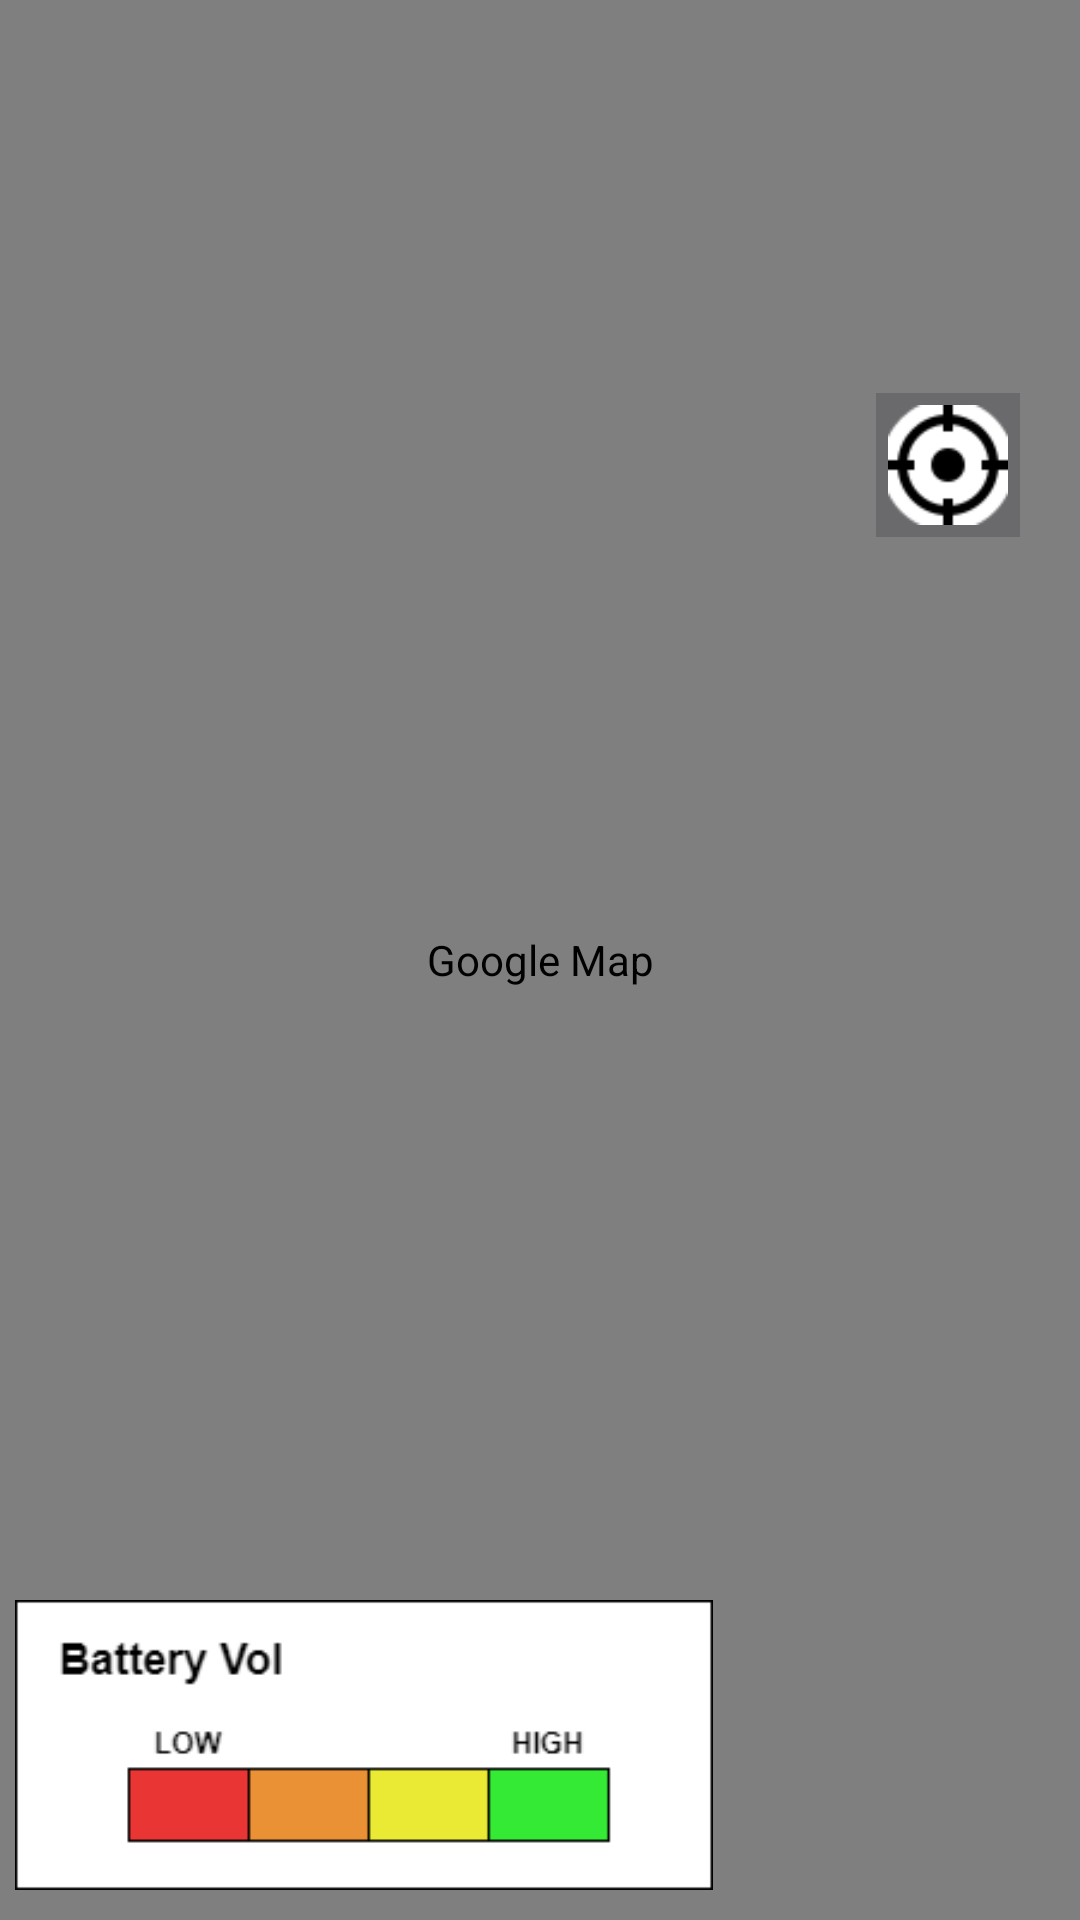

Named icons in this screenshot (1080 x 1920) and their bounding boxes, (x1, y1, x2, y2):
move camera to field: (888, 405, 1008, 525)
